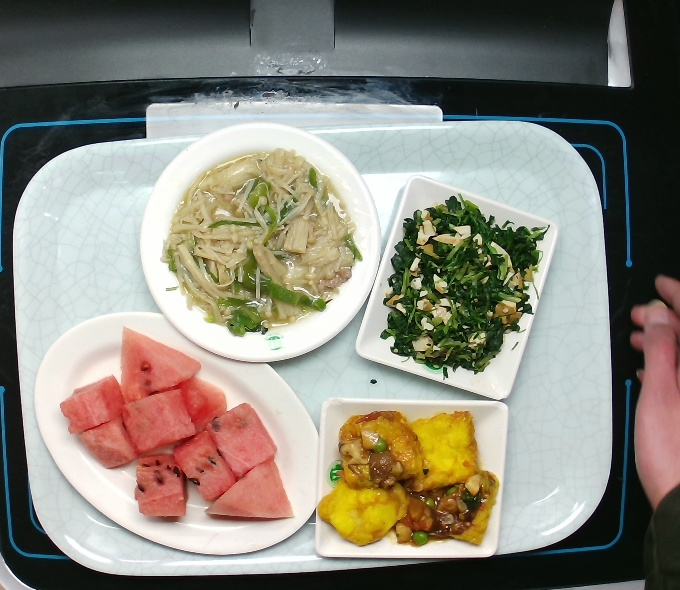wcq-CuiPiDouFu: (315, 405, 502, 550)
wcq-JinZhenGu: (158, 142, 366, 339)
wcq-MaLanTouChaoDouGan: (375, 191, 552, 384)
wcq-XiGua: (54, 320, 300, 527)
